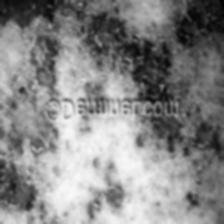Non-Cancerous Skin Condition: (90, 0, 224, 81), (122, 118, 224, 215), (0, 50, 54, 214)
